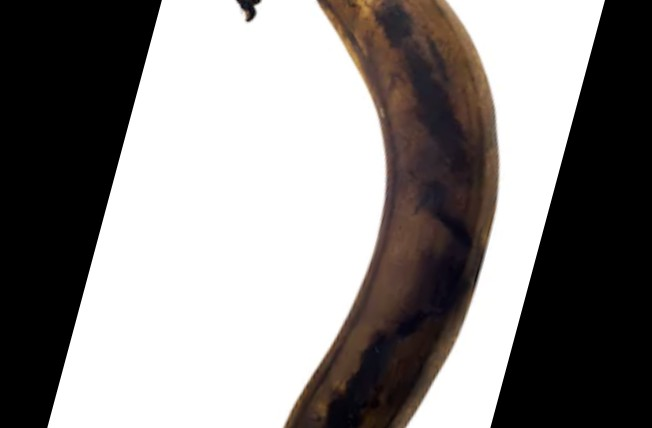rotten_banana: (233, 1, 500, 428)
